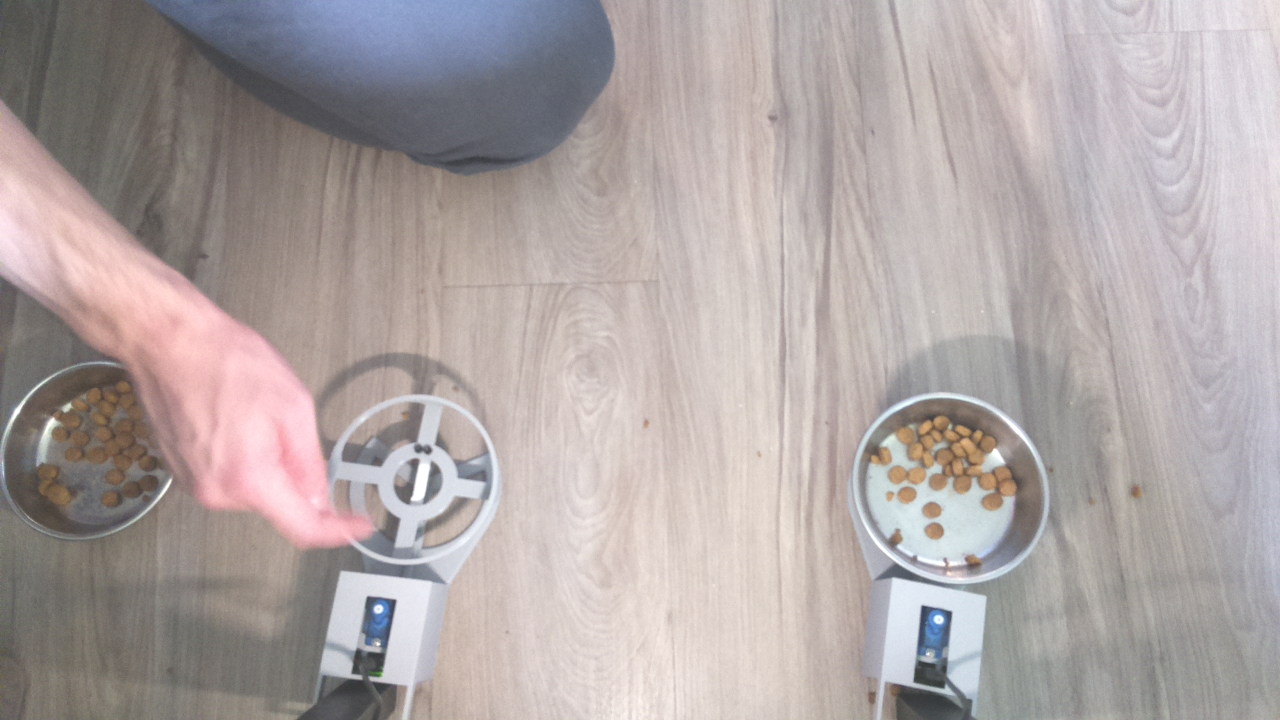open_bowl: (847, 389, 1050, 591)
